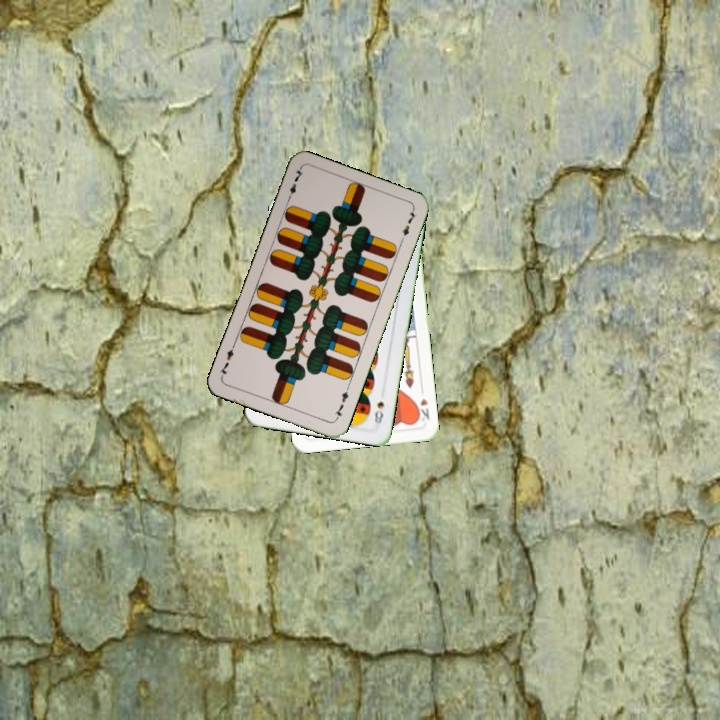E7: (283, 165, 306, 204), (330, 383, 351, 423)
HK: (412, 394, 432, 426)
S8: (370, 397, 387, 427)
